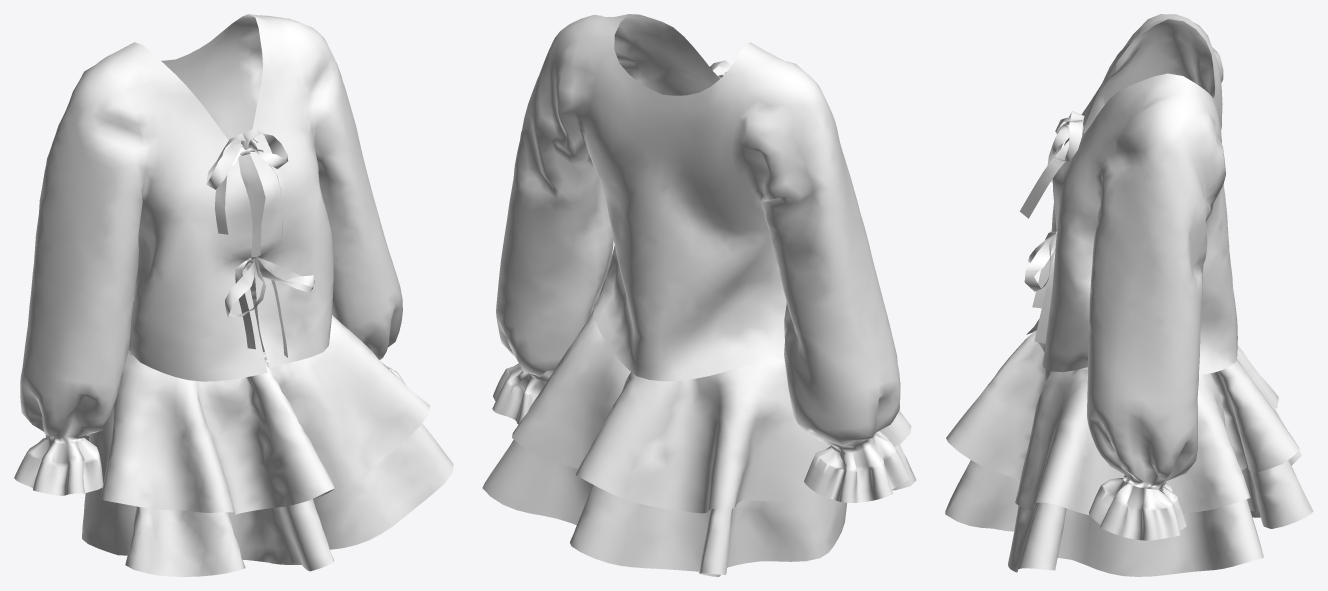
Rendered from batist.glb.
3 views of the same model, side by side, from view 1: azimuth 30°, elevation 25°; view 2: azimuth 150°, elevation 25°; view 3: azimuth 270°, elevation 25° (orthographic). The views are drawn at different scales.
Parts seen in each view (by area): view 1: Cloth; view 2: Cloth; view 3: Cloth.
Part boxes in pixels (x1=…): Cloth: x1=14, y1=14, x2=453, y2=576; Cloth: x1=482, y1=14, x2=916, y2=576; Cloth: x1=945, y1=14, x2=1313, y2=576.
Size of the model in its own units: 8.11 by 9.91 by 6.78.
1 material, 1 textured.
